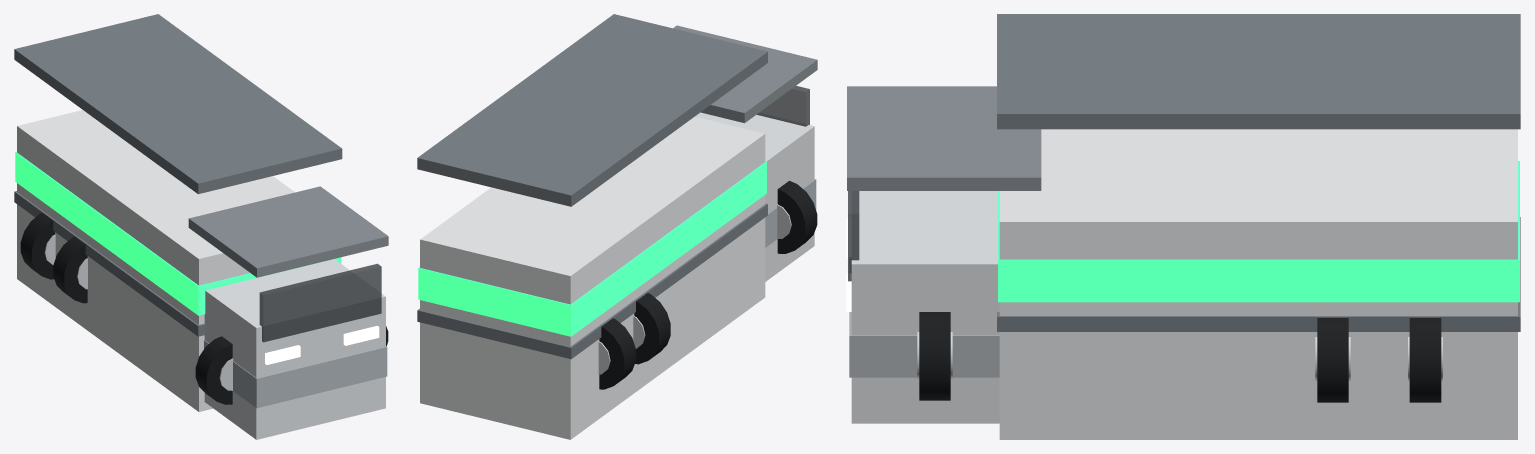
Rendered from delivery-truck.glb.
3 views of the same model, side by side, from view 1: azimuth 30°, elevation 25°; view 2: azimuth 150°, elevation 25°; view 3: azimuth 270°, elevation 25° (orthographic). The views are drawn at different scales.
Visible parts, largest first — view 1: delivery-truck; view 2: delivery-truck; view 3: delivery-truck.
Boxes of the visible parts, box(x1,y1,x2,y2) form: delivery-truck: box(14, 14, 388, 439); delivery-truck: box(417, 14, 817, 439); delivery-truck: box(846, 14, 1520, 439).
Bounding box in the file's own units: 3.32 × 3.9 × 7.29.
